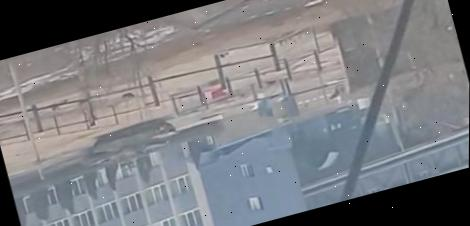tank: (80, 112, 179, 166)
